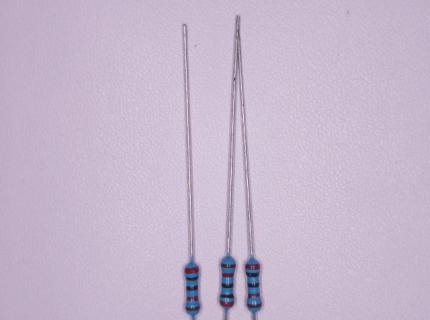Black band: (220, 293, 235, 298), (186, 285, 198, 291), (222, 282, 233, 288), (248, 282, 259, 288), (246, 272, 259, 277), (186, 276, 198, 281)
Brown band: (185, 305, 201, 311), (247, 302, 262, 308), (221, 263, 236, 268)
Red band: (184, 266, 199, 273), (245, 263, 260, 270), (220, 300, 235, 307), (222, 272, 234, 278), (249, 292, 261, 298), (187, 295, 199, 301)
